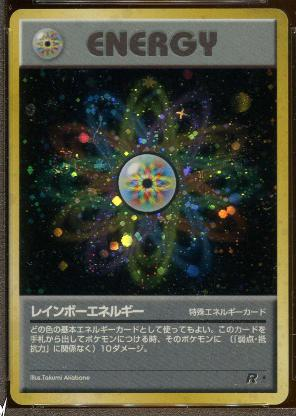Card: (7, 7, 289, 407)
